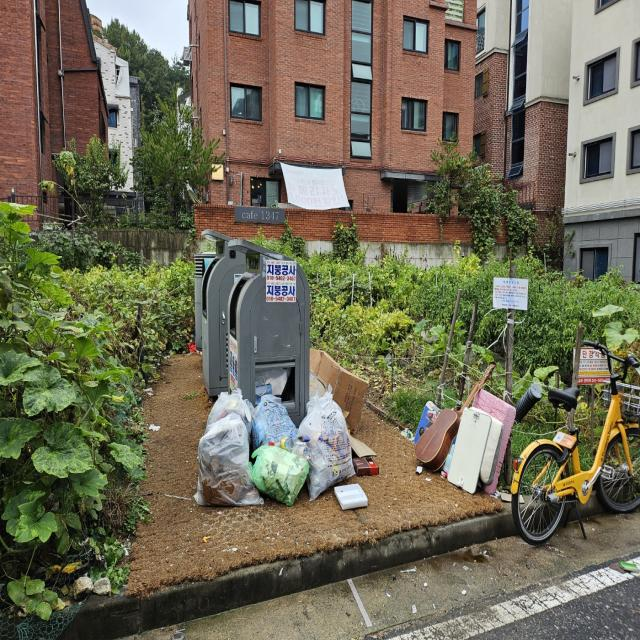CleanNet: (227, 238, 310, 394), (202, 229, 251, 394)
General Waste: (203, 392, 356, 507), (302, 395, 359, 492), (250, 444, 311, 504), (256, 392, 300, 452)
Large Waste Items: (461, 389, 517, 493)
